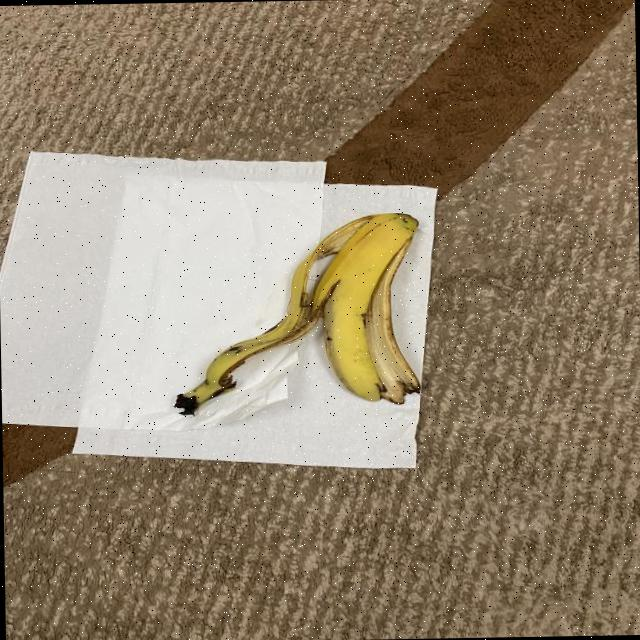banana-peel: (170, 210, 422, 416)
